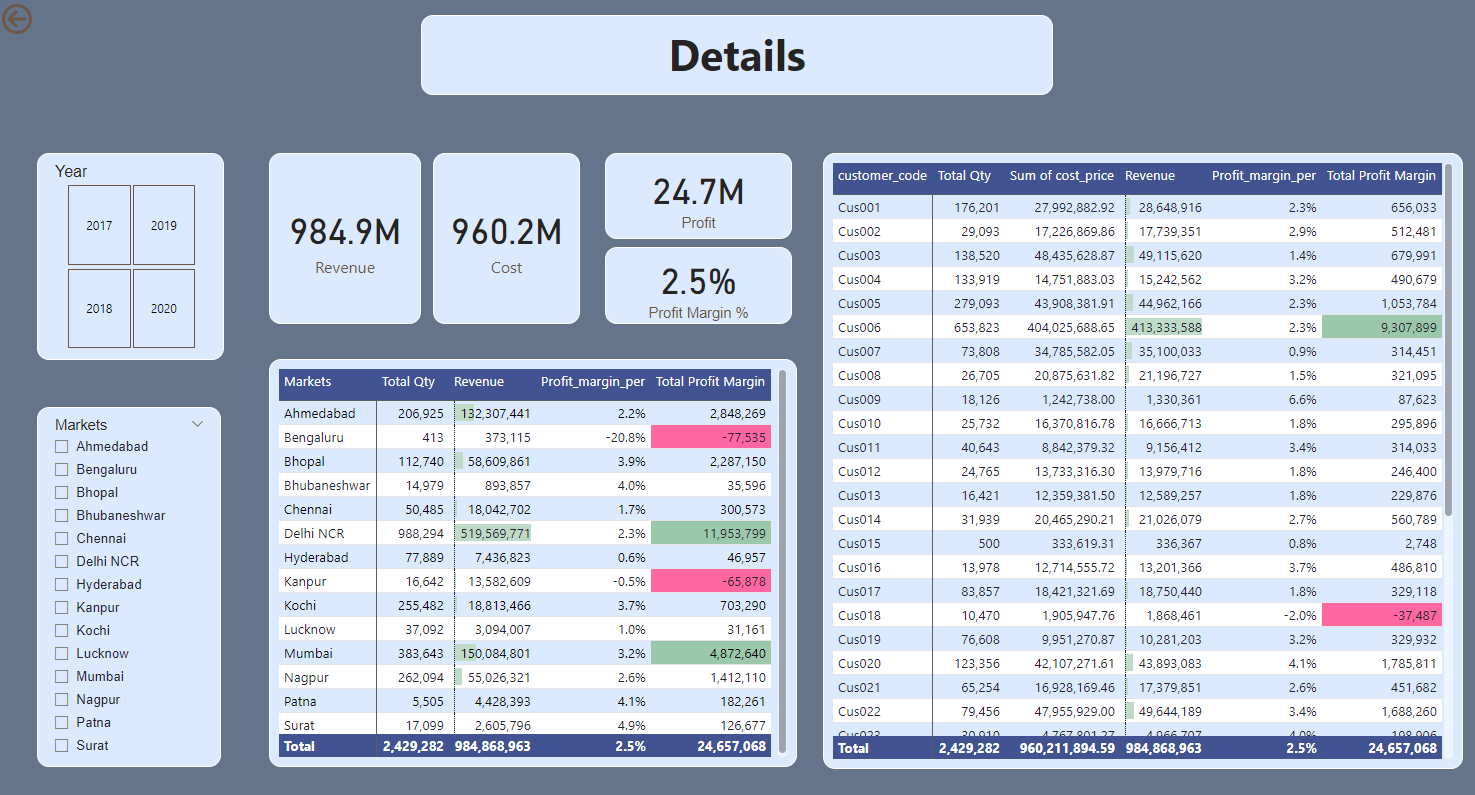

The page's visual inventory and layout, read from the dashboard file:
{"tool":"powerbi","page":{"name":"Details Drill Through","canvas":[1480,800],"ordinal":3},"visuals":[{"type":"slicer","fields":{"Values":["sales date.year"]},"box":[40,154,187,207],"z":0},{"type":"slicer","fields":{"Values":["sales markets.markets_name"]},"box":[40,408,184,360],"z":1000},{"type":"textbox","box":[424,16,632,80],"z":2000},{"type":"pivotTable","fields":{"Values":["Sum(sales transactions.sales_qty)","Sum(sales transactions.Sales_revenue)","sales transactions.Profit_margin_per","Sum(sales transactions.profit_margin)"],"Rows":["sales markets.markets_name"]},"box":[272,360,528,408],"z":3000},{"type":"actionButton","box":[0,0,48,40],"z":4000},{"type":"pivotTable","fields":{"Values":["Sum(sales transactions.sales_qty)","Sum(sales transactions.cost_price)","Sum(sales transactions.Sales_revenue)","sales transactions.Profit_margin_per","Sum(sales transactions.profit_margin)"],"Rows":["sales transactions.customer_code"]},"box":[826,154,640,616],"z":5000},{"type":"card","fields":{"Values":["Sum(sales transactions.Sales_revenue)"]},"box":[272,154,152,171],"z":6000},{"type":"card","title":"Total Sales Quantity","fields":{"Values":["Sum(sales transactions.Profit)"]},"box":[608,154,187,86],"z":7000},{"type":"card","fields":{"Values":["Sum(sales transactions.cost_price)"]},"box":[436,154,147,171],"z":8000},{"type":"card","title":"Total Sales Quantity","fields":{"Values":["sales transactions.Profit_margin_per"]},"box":[608,248,187,77],"z":9000}]}

Visuals, with their boxes in screenshot pixels (x1, y1, x2, y2), scaled from the page's 1480x800 canvas onto the 1475x795 screenshot:
slicer - sales date.year: [40,153,226,359]
slicer - sales markets.markets_name: [40,405,223,763]
textbox: [423,16,1052,95]
pivotTable - Sum(sales transactions.sales_qty) x Sum(sales transactions.Sales_revenue): [271,358,797,763]
actionButton: [0,0,48,40]
pivotTable - Sum(sales transactions.sales_qty) x Sum(sales transactions.cost_price): [823,153,1461,765]
card - Sum(sales transactions.Sales_revenue): [271,153,423,323]
"Total Sales Quantity" card: [606,153,792,238]
card - Sum(sales transactions.cost_price): [435,153,581,323]
"Total Sales Quantity" card: [606,246,792,323]
